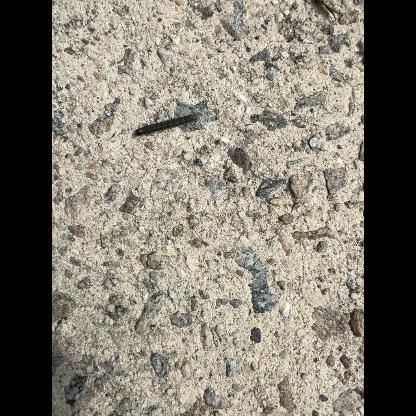Fall Armyworm Larvae: (134, 113, 200, 138)
